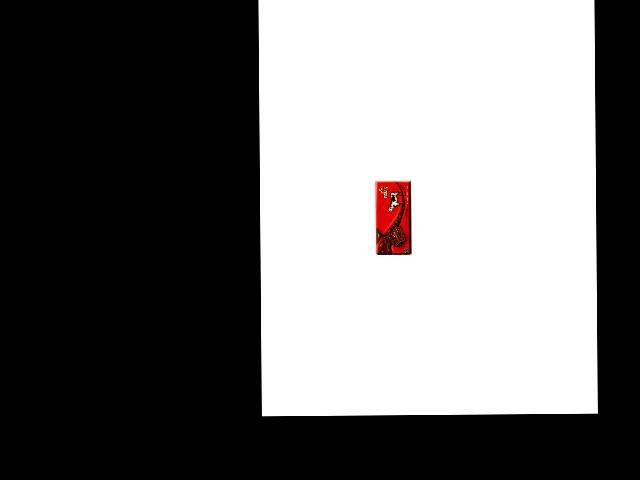chocolate: (374, 178, 415, 256)
